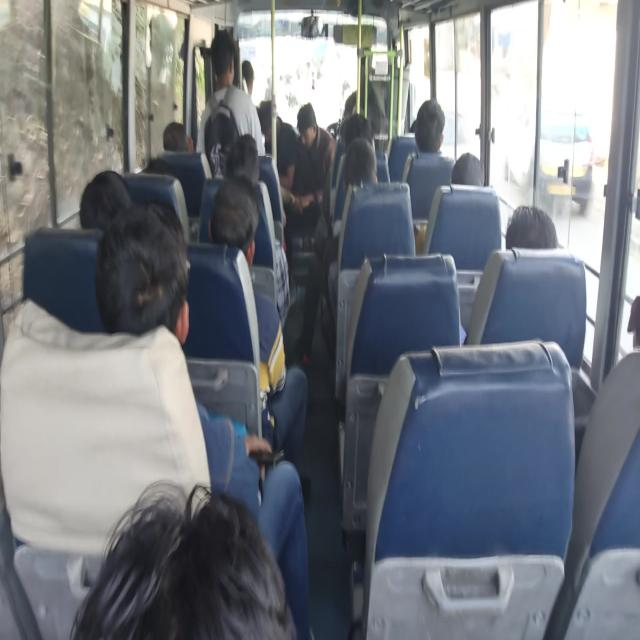person: (100, 524, 379, 640), (97, 230, 186, 364), (78, 162, 142, 282), (508, 202, 562, 277), (337, 146, 385, 209), (419, 90, 455, 160), (209, 46, 244, 116), (335, 109, 382, 154), (250, 96, 286, 150), (216, 183, 250, 240), (456, 150, 484, 204), (160, 120, 193, 165), (298, 107, 322, 164), (144, 146, 177, 183), (621, 290, 640, 350), (223, 137, 250, 176), (238, 60, 260, 101), (404, 114, 425, 140)
